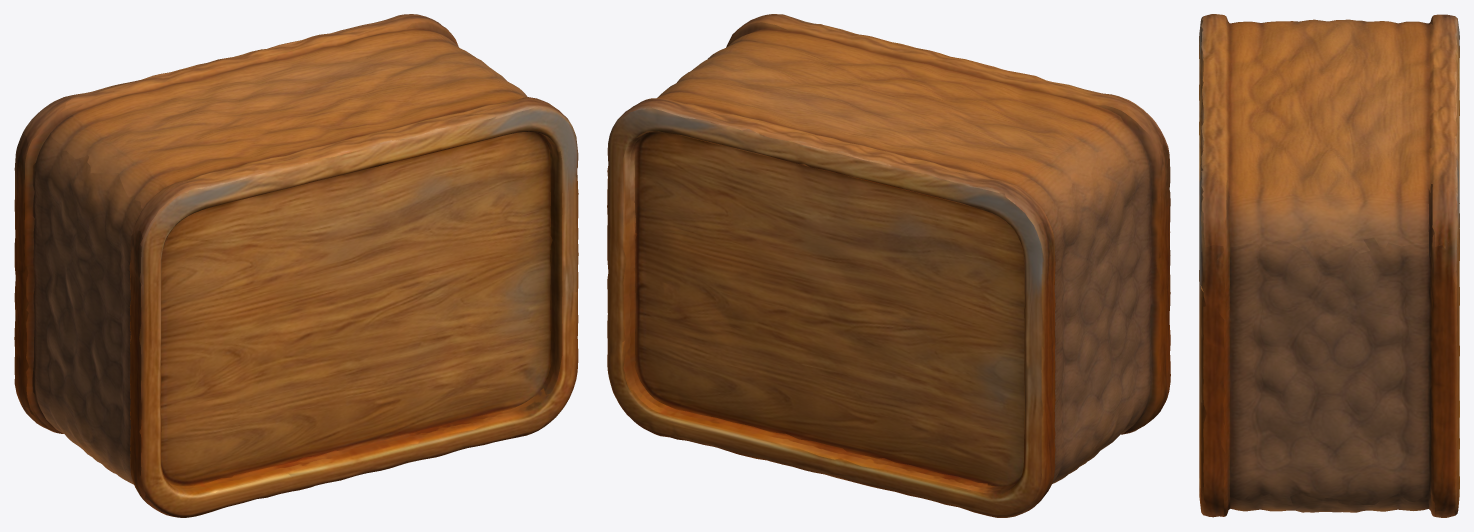
File: board.glb
The picture shows the model from 3 angles, left to right: view 1: azimuth 30°, elevation 25°; view 2: azimuth 150°, elevation 25°; view 3: azimuth 270°, elevation 25°; orthographic projection.
Visible parts, largest first — view 1: tmp3g7qgs4a.ply; view 2: tmp3g7qgs4a.ply; view 3: tmp3g7qgs4a.ply.
Boxes of the visible parts, box(x1,y1,x2,y2) form: tmp3g7qgs4a.ply: box(14, 14, 578, 517); tmp3g7qgs4a.ply: box(607, 14, 1170, 517); tmp3g7qgs4a.ply: box(1199, 14, 1459, 517).
Bounding box in the file's own units: 1.96 × 1.42 × 1.01.
1 material, 1 textured.
